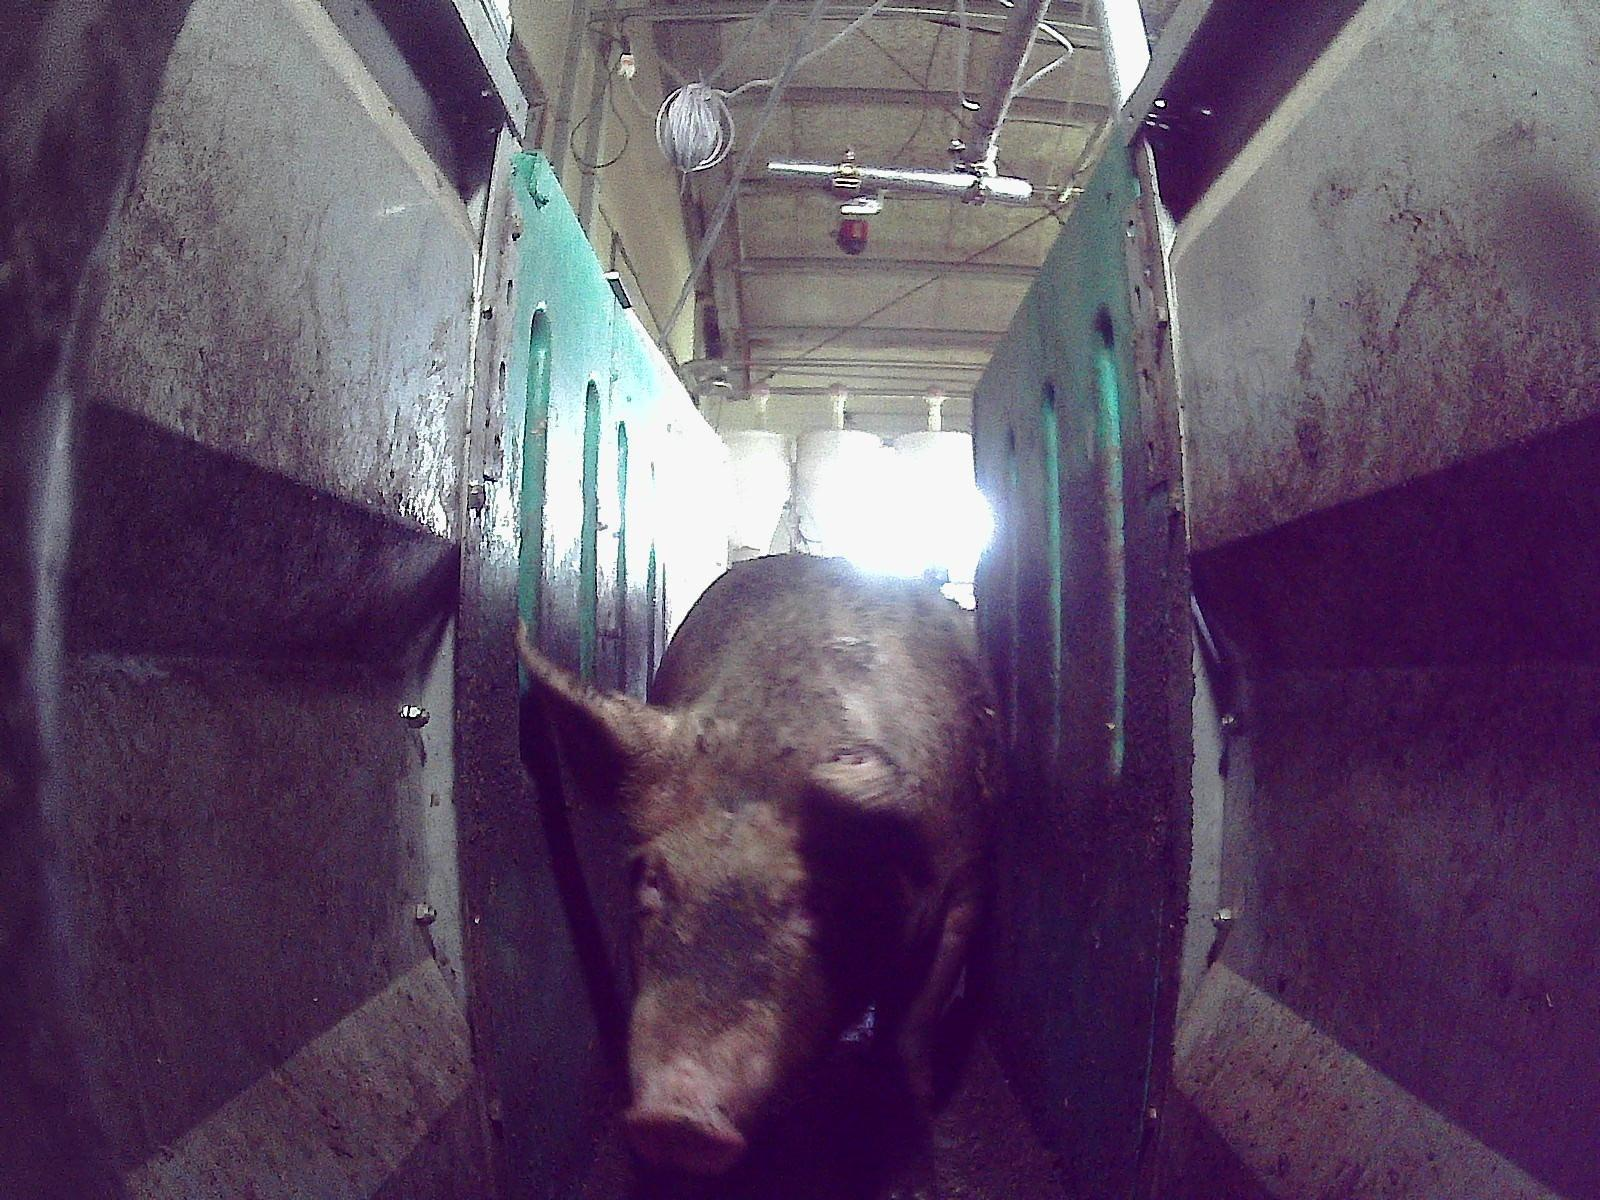Face: (615, 724, 869, 1174)
